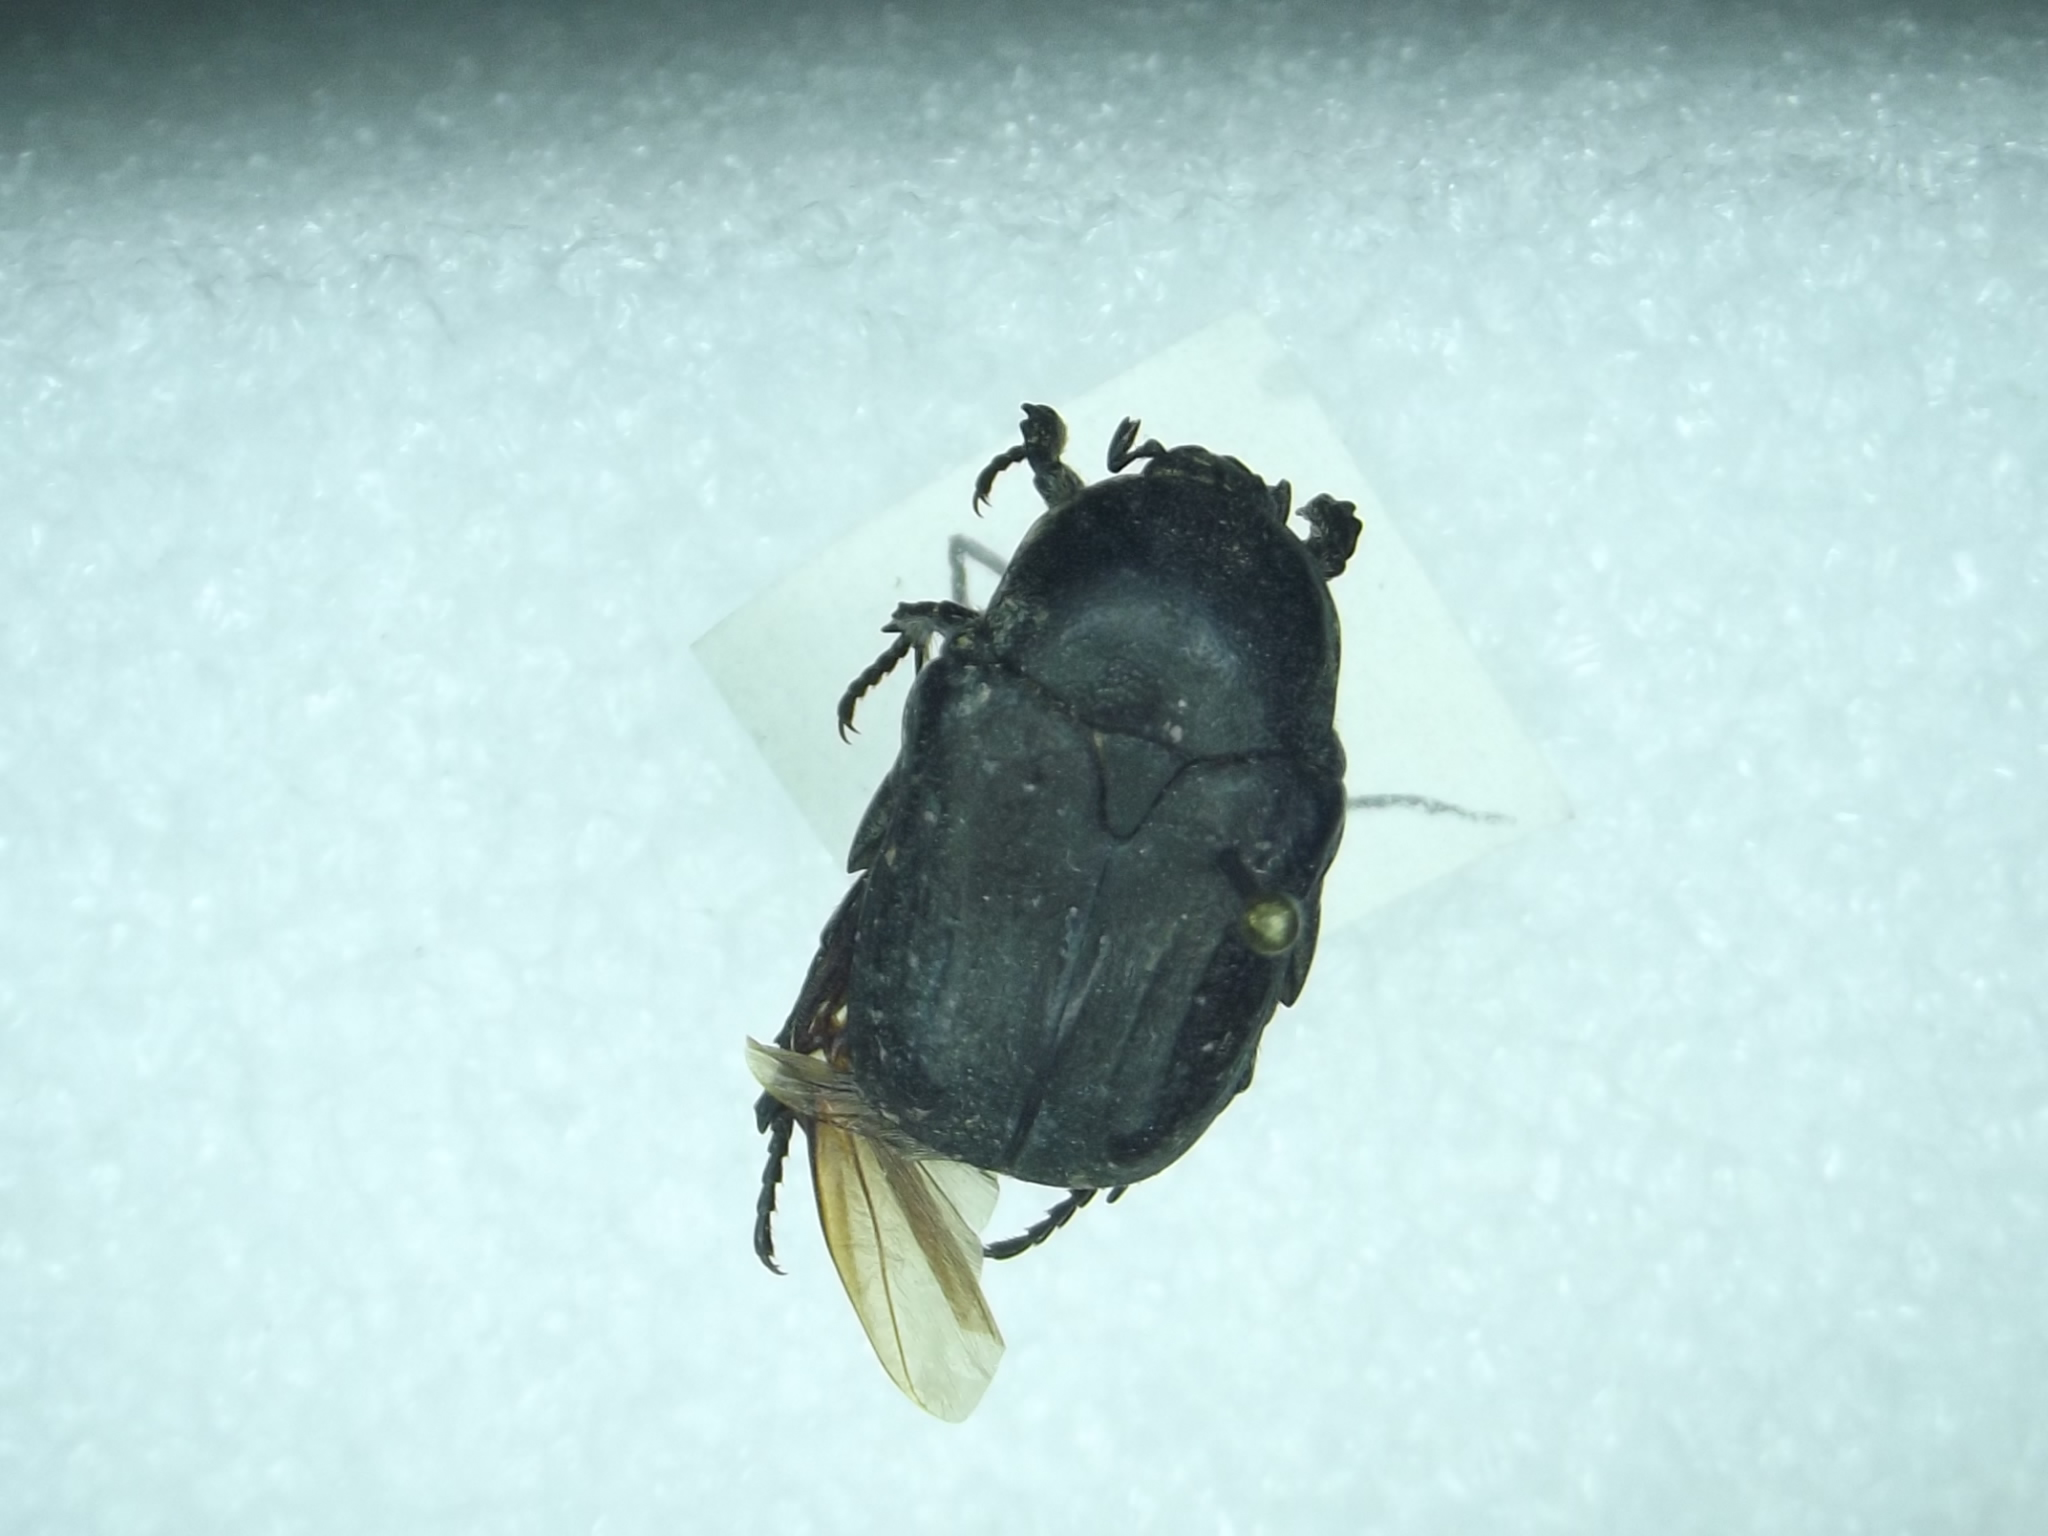Protaetia_asiatica: (742, 340, 1550, 1368)
